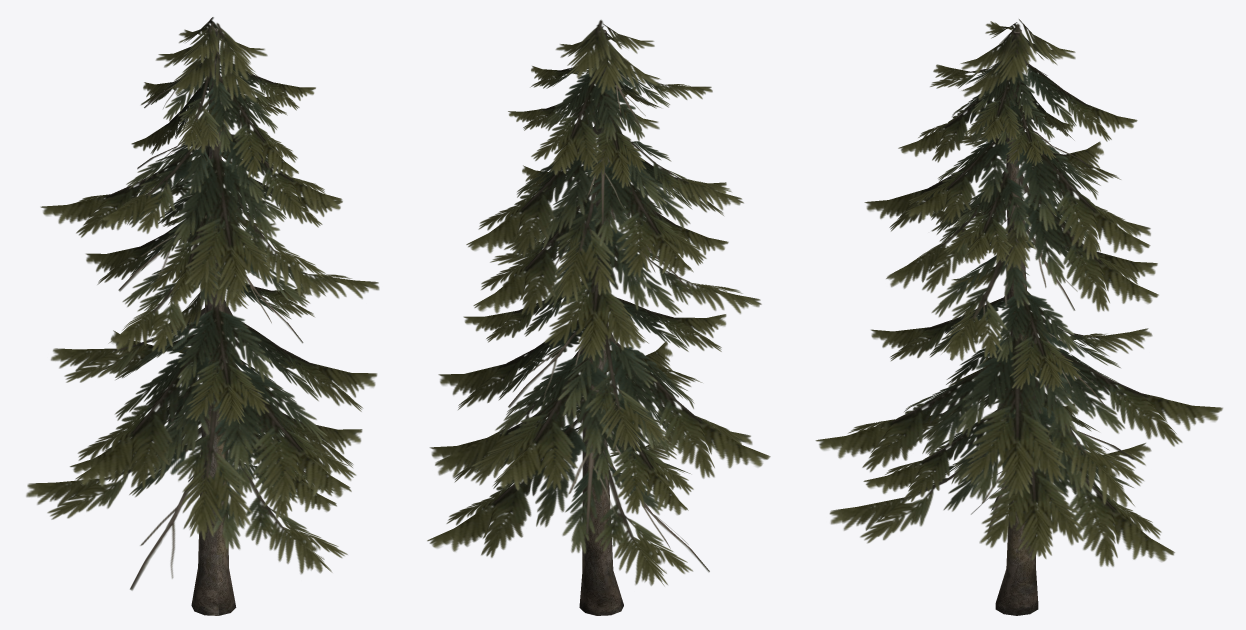
The model's file is fire-large-2-dark.glb.
The picture shows the model from 3 angles, left to right: view 1: azimuth 30°, elevation 25°; view 2: azimuth 150°, elevation 25°; view 3: azimuth 270°, elevation 25°; orthographic projection.
Visible parts, largest first — view 1: Branches, Tree_bark; view 2: Branches, Tree_bark; view 3: Branches, Tree_bark.
Boxes of the visible parts, x1,y1,x2,y2 form: Branches: (26, 17, 379, 590); Tree_bark: (191, 28, 236, 615); Branches: (427, 20, 770, 585); Tree_bark: (579, 29, 623, 615); Branches: (815, 19, 1222, 566); Tree_bark: (995, 29, 1038, 615).
Size of the model in its own units: 365 by 624 by 405.
Materials: 2 (2 with a texture image).
